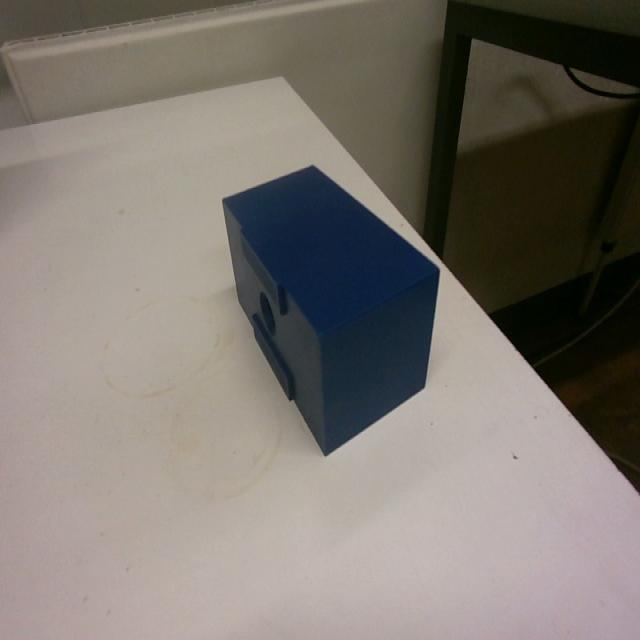Blue Cuboid: (219, 160, 442, 456)
